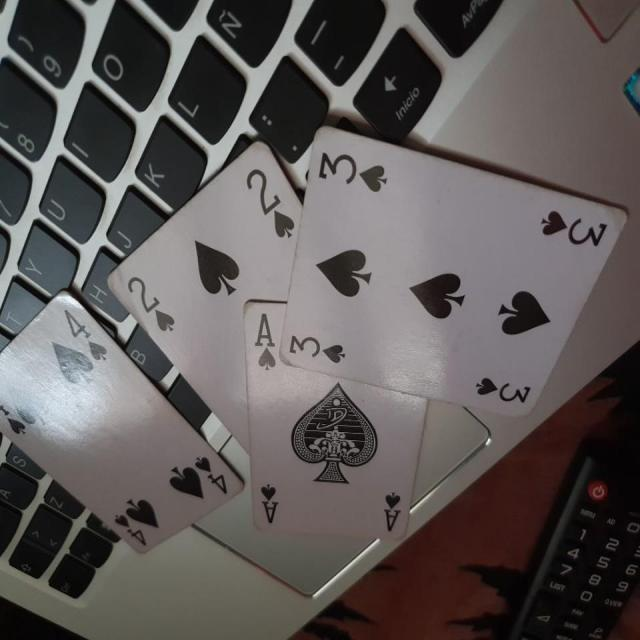2 Spades: (95, 138, 335, 414)
3 Spades: (281, 118, 631, 432)
4 Spades: (1, 296, 248, 563)
A Spades: (229, 288, 430, 547)
